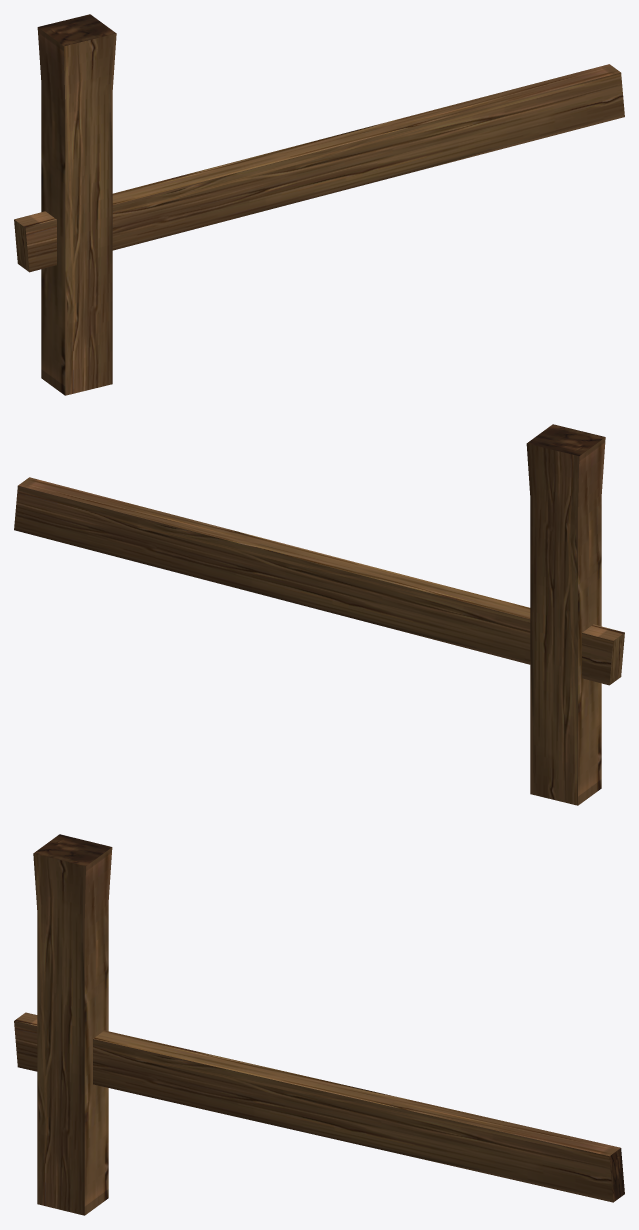
File: fanasty_mod_gro_fence05.fbx
3 renders of one model, top to bottom at view 1: azimuth 30°, elevation 25°; view 2: azimuth 150°, elevation 25°; view 3: azimuth 330°, elevation 25°, orthographic.
Visible parts, largest first — view 1: gro_fence_05; view 2: gro_fence_05; view 3: gro_fence_05.
Part boxes in pixels (<box>): gro_fence_05: <box>14,14,624,395</box>; gro_fence_05: <box>14,424,624,805</box>; gro_fence_05: <box>14,834,624,1215</box>.
Size of the model in its own units: 1.62 by 0.9045 by 0.123.
